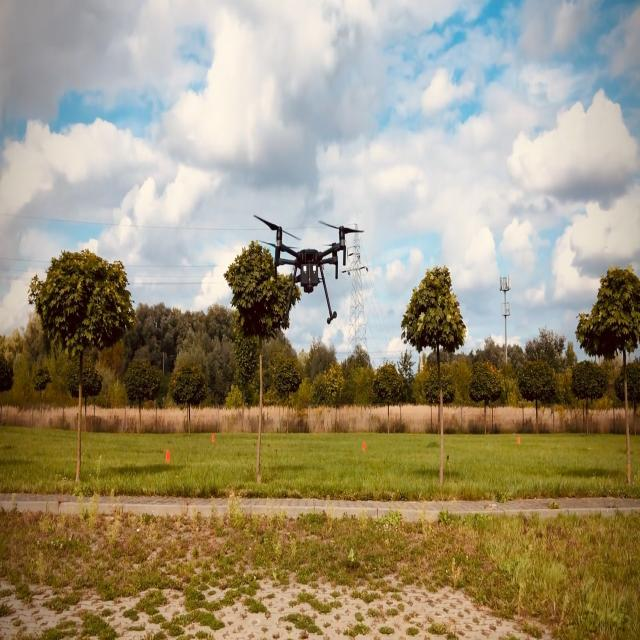drone: (253, 214, 366, 328)
